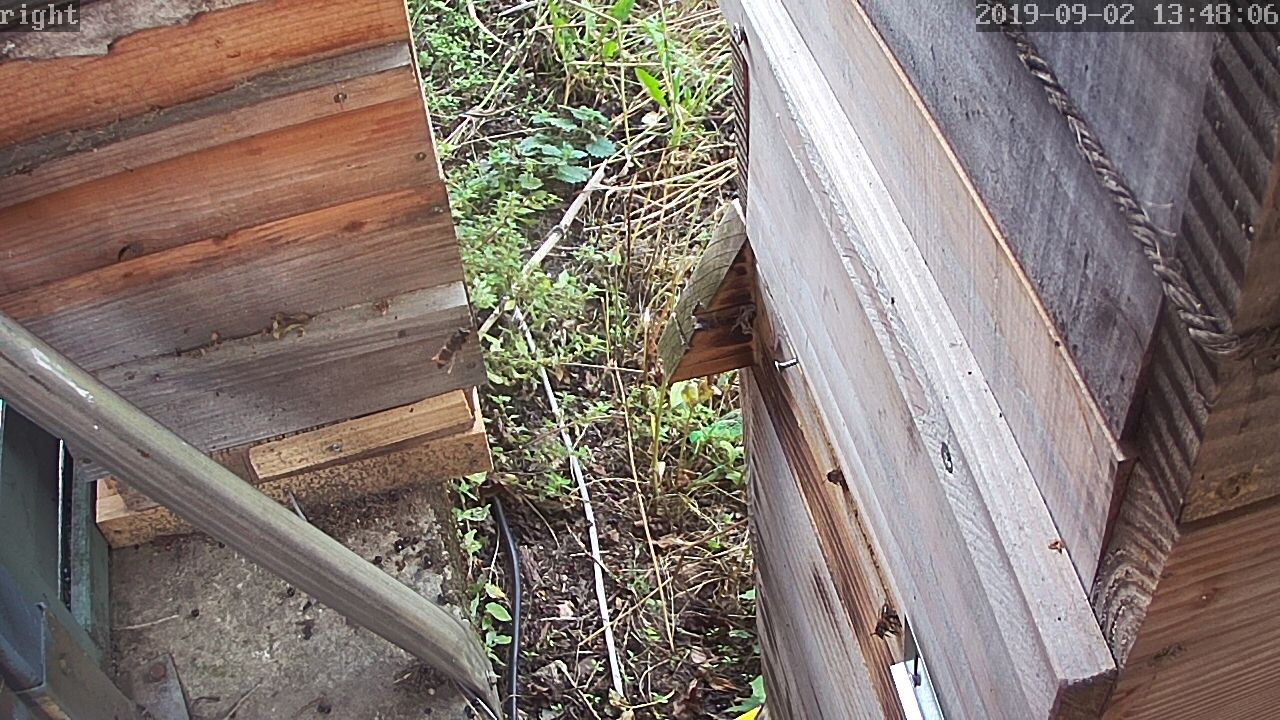bee: (868, 600, 901, 642), (823, 463, 843, 486)
hornet: (429, 326, 472, 373)
